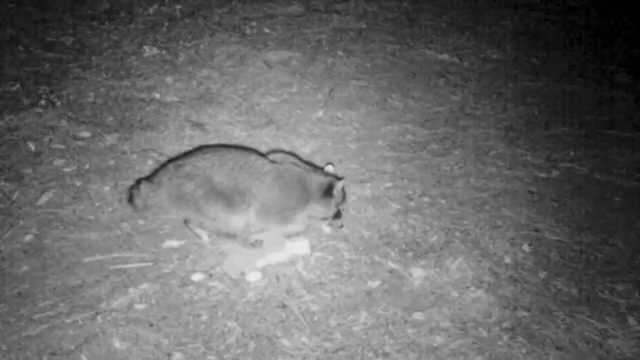raccoon: (126, 141, 356, 255)
